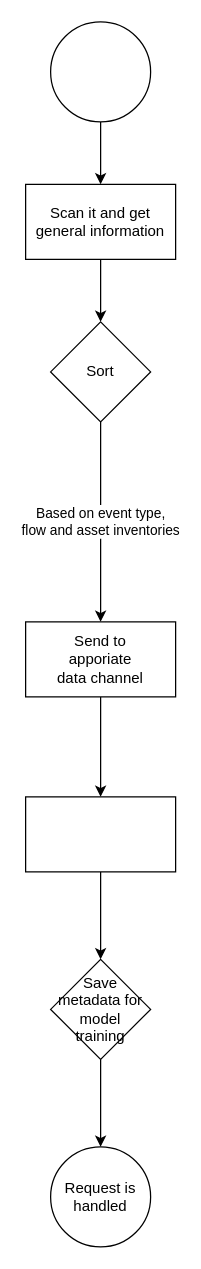
Image size: 201x1269. Some labels were removed from this diagram. The shapes that lost their labels are listed below. From the top down, each one's box as (x1, y1, x2, y2) in pixels, then its label:
(49, 21, 151, 122): Request
(24, 796, 176, 872): Utilize it own detection pipelines to ensure security
